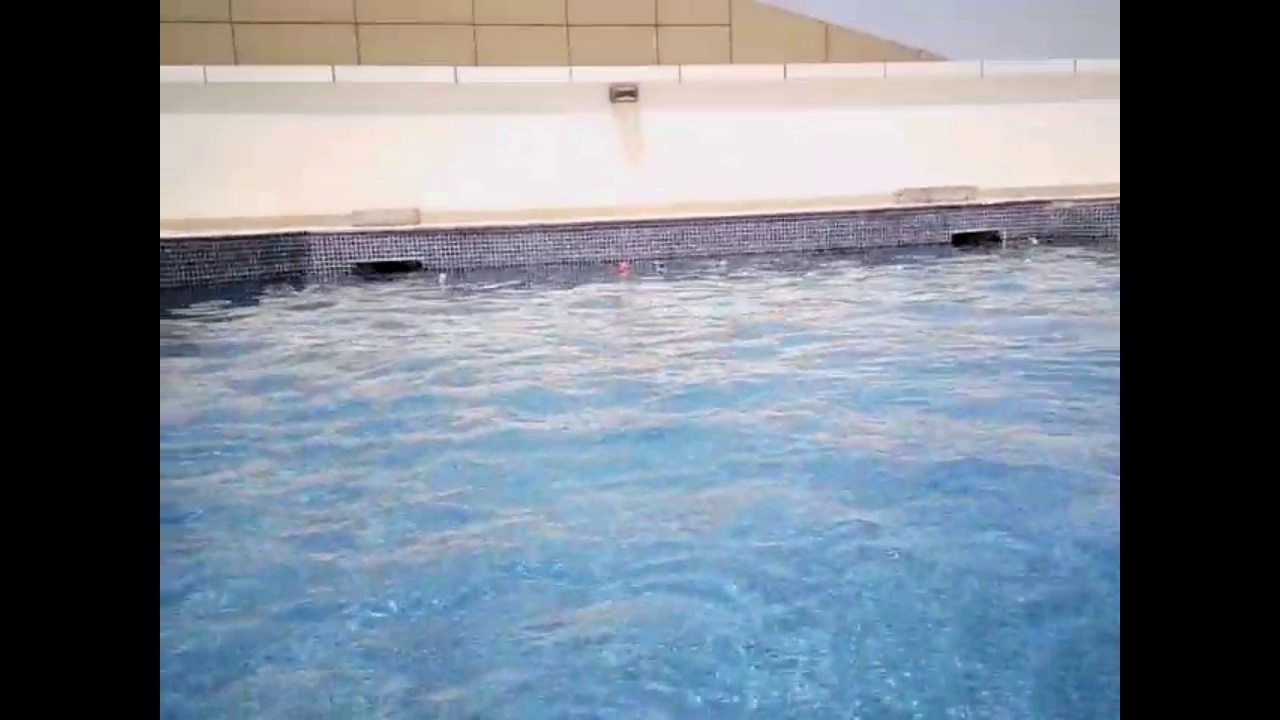debris: (648, 258, 668, 272), (434, 269, 450, 286), (712, 253, 728, 269), (1021, 231, 1038, 245), (614, 259, 630, 273)
